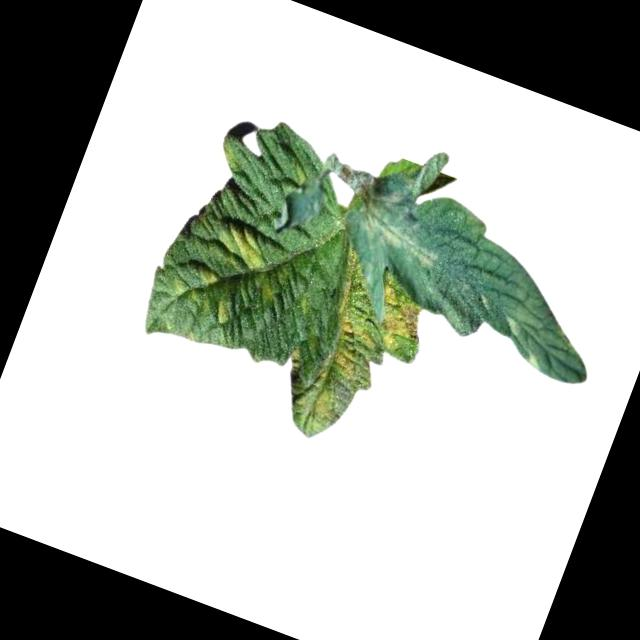Leaf_Mold: (341, 170, 456, 272), (297, 306, 376, 440), (363, 279, 432, 357), (213, 222, 275, 277), (189, 265, 218, 291)
